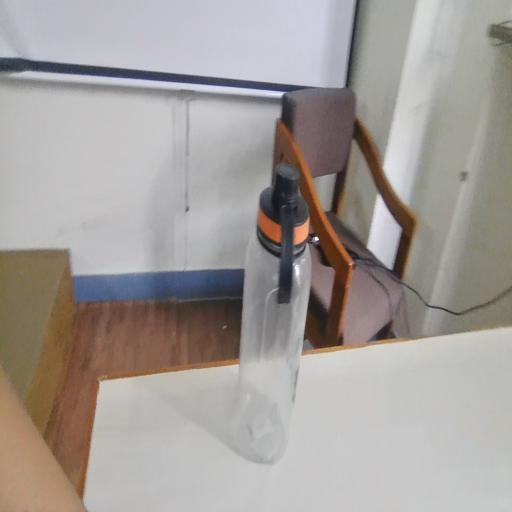Bottle: (239, 173, 324, 453)
